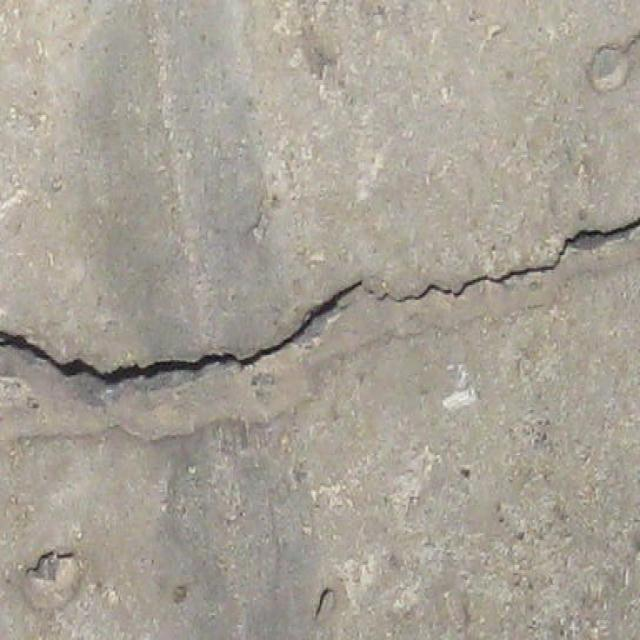crack: (1, 203, 639, 407)
